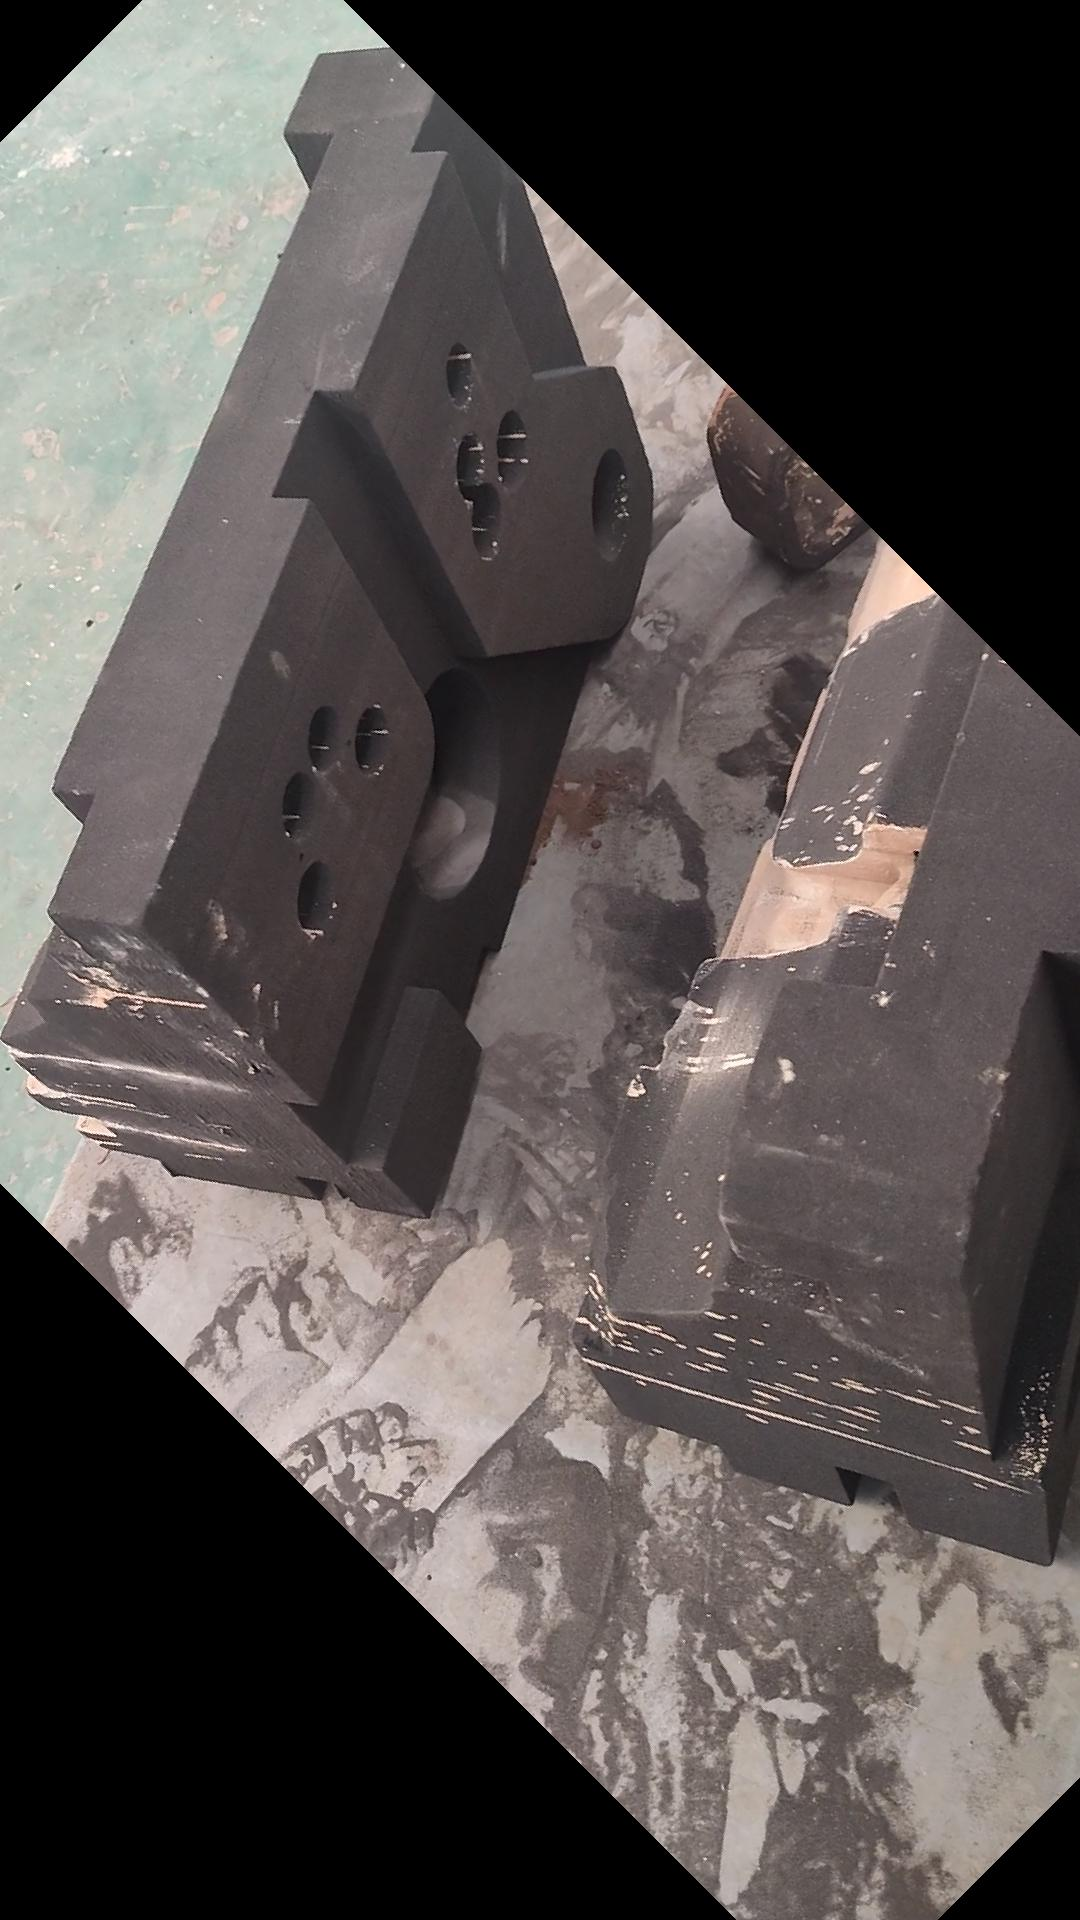pouring hole: (592, 447, 630, 560)
